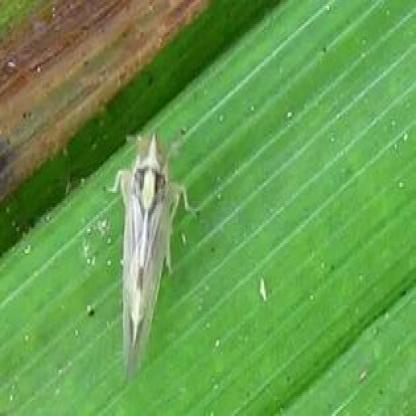brown-planthopper: (112, 128, 180, 380)
